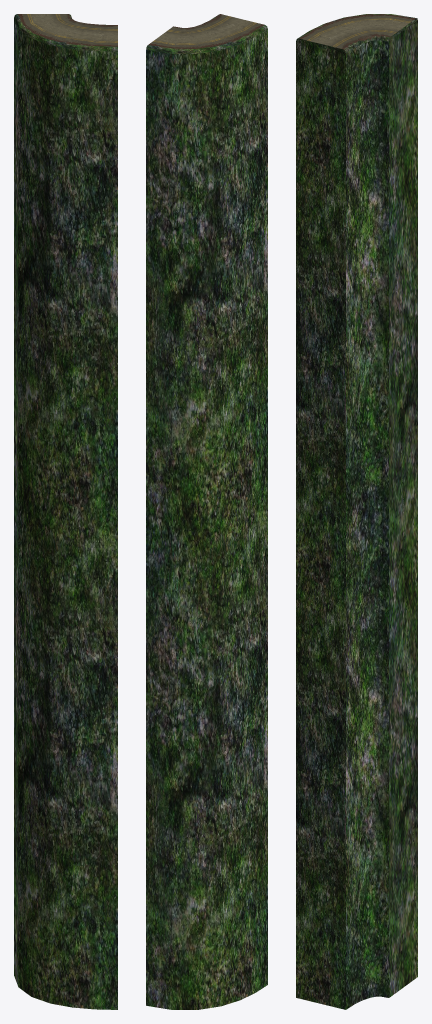
File: 90 Turn.fbx
3 renders of one model, left to right at view 1: azimuth 90°, elevation 25°; view 2: azimuth 150°, elevation 25°; view 3: azimuth 330°, elevation 25°, orthographic.
Visible parts, largest first — view 1: 90 turn.001; view 2: 90 turn.001; view 3: 90 turn.001.
Part boxes in pixels (x1,y1,x2,y2): 90 turn.001: (14, 14, 117, 1009); 90 turn.001: (146, 14, 267, 1009); 90 turn.001: (296, 14, 417, 1009).
Bounding box in the file's own units: 576 × 7538 × 738.
